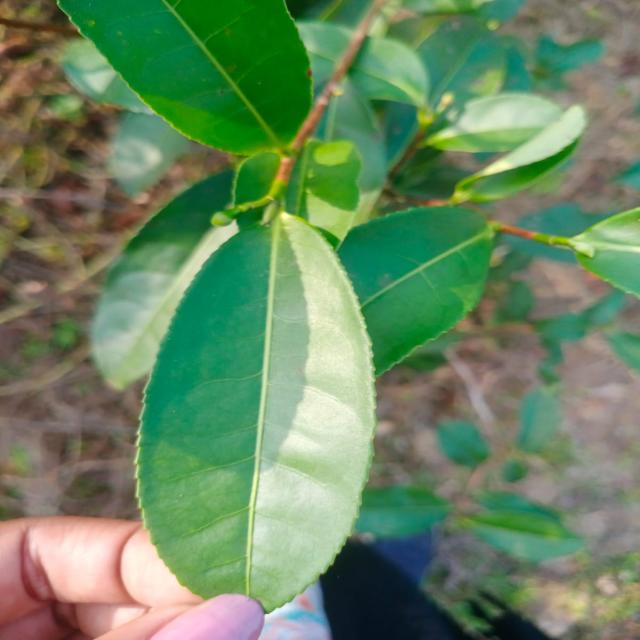Category D(7+ days, Not for Tea): (100, 210, 395, 621)
